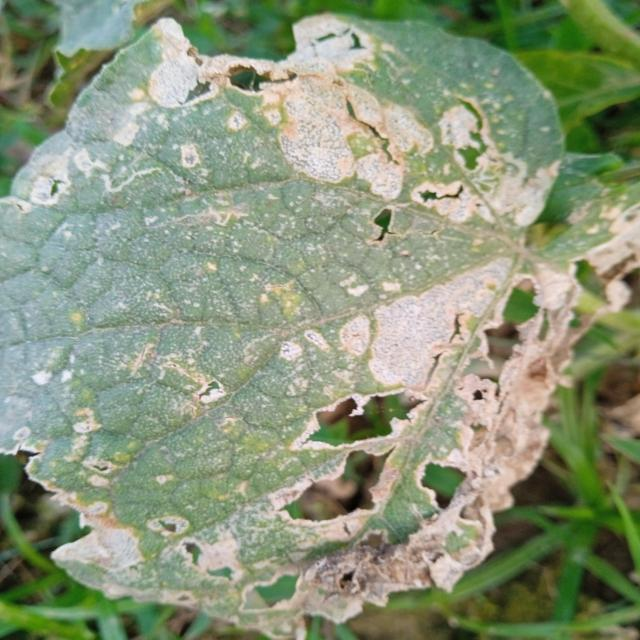cucumber_anthracnose: (17, 42, 633, 639)
